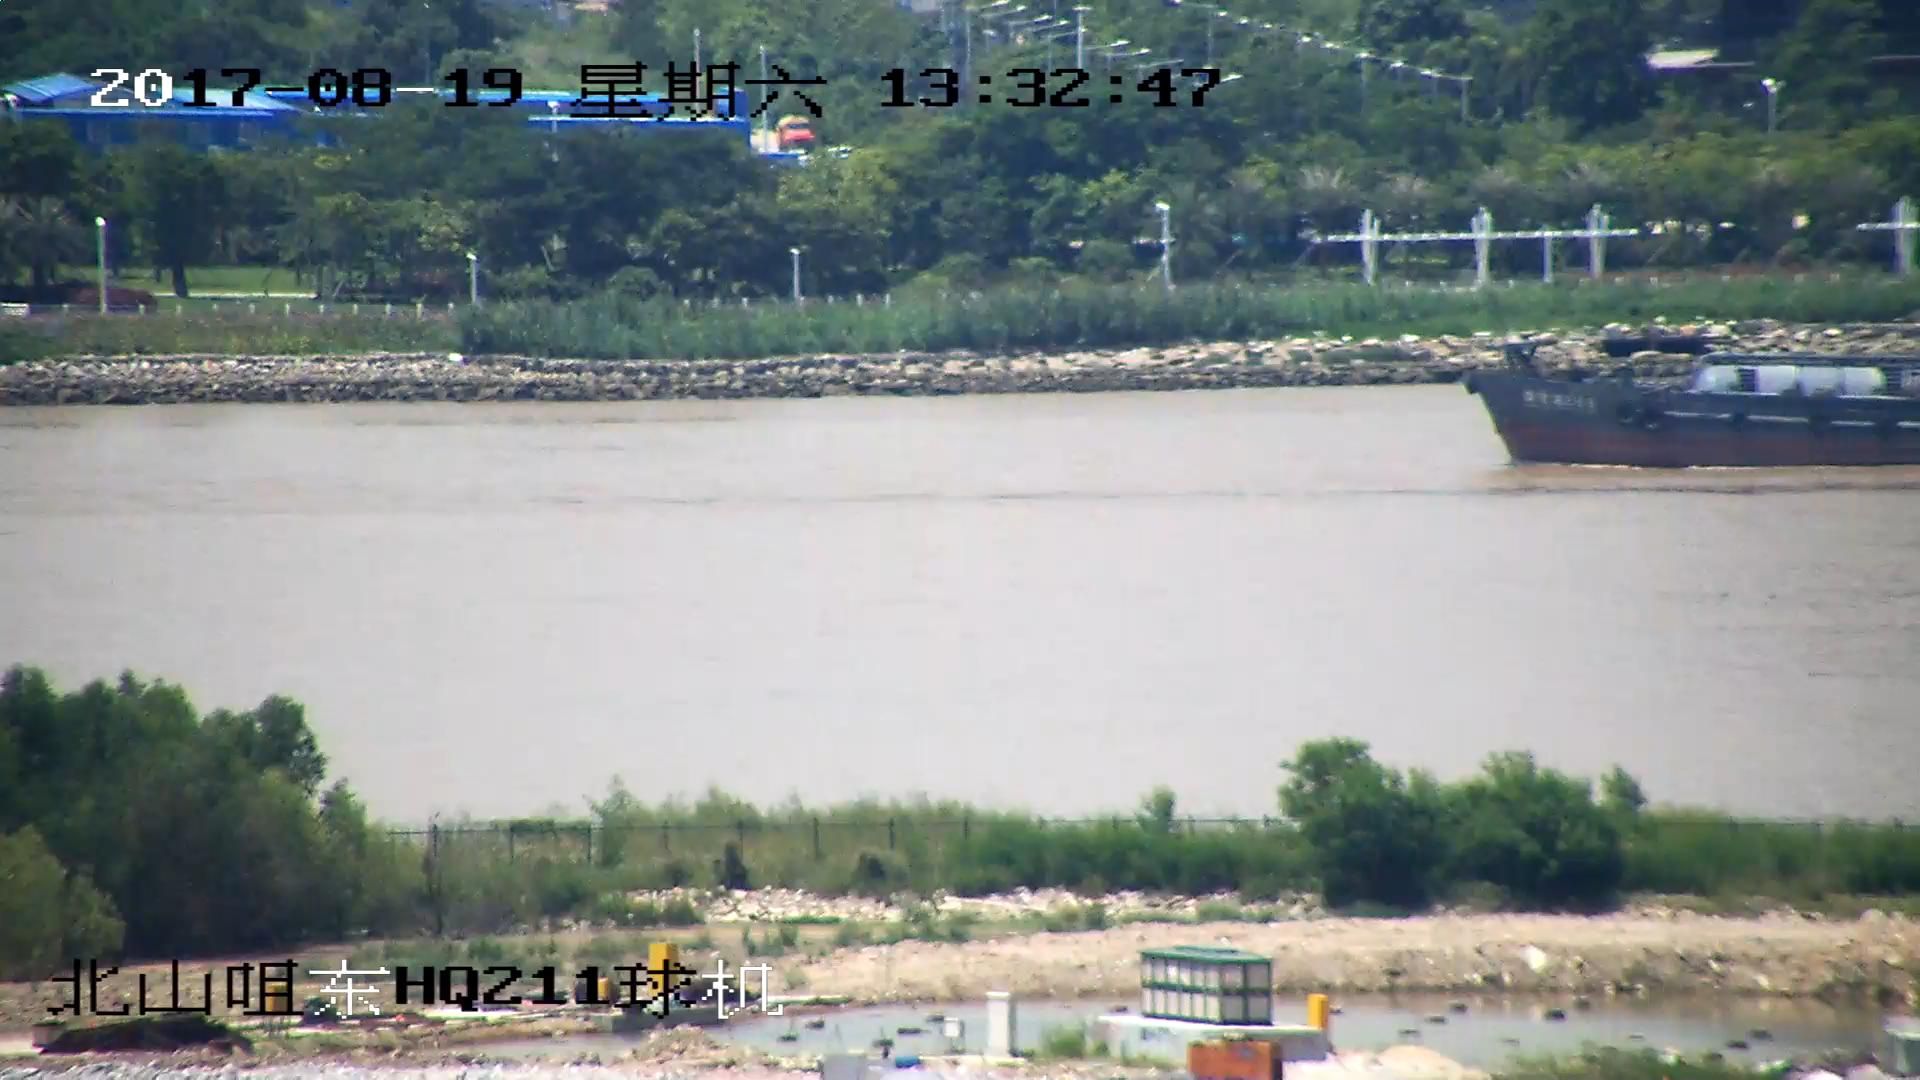bulk cargo carrier: (1466, 342, 1920, 468)
